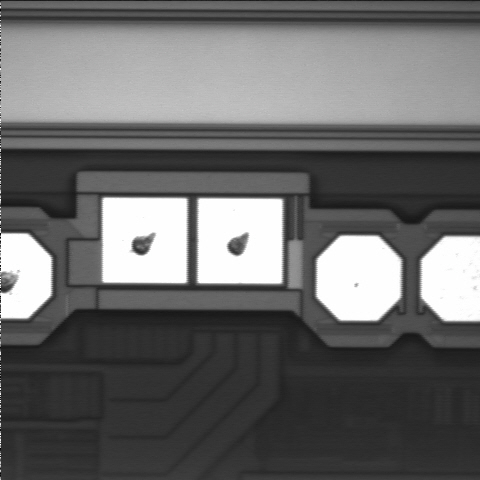pad: (198, 198, 282, 284), (103, 198, 187, 283), (317, 236, 401, 321)
